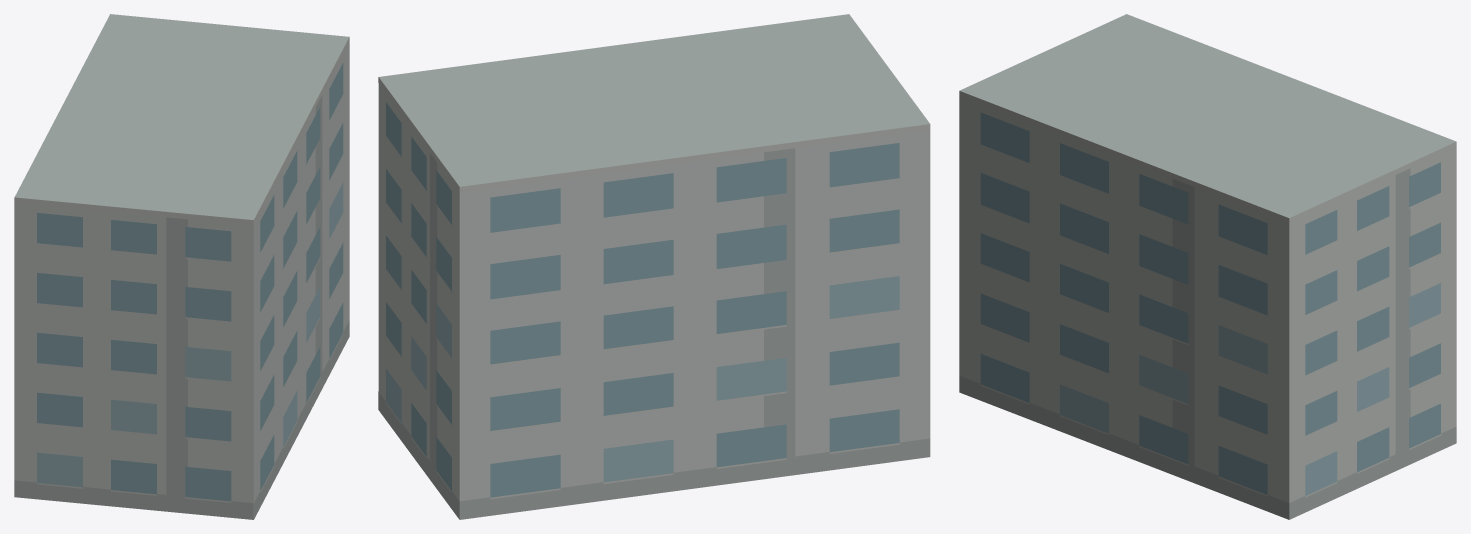
File: survey-upis-32743812.glb
The picture shows the model from 3 angles, left to right: view 1: azimuth 30°, elevation 25°; view 2: azimuth 150°, elevation 25°; view 3: azimuth 270°, elevation 25°; orthographic projection. The views are drawn at different scales.
Visible parts, largest first — view 1: survey-upis-32743812.tmp; view 2: survey-upis-32743812.tmp; view 3: survey-upis-32743812.tmp.
Part boxes in pixels (box(x1,y1,x2,y2)): survey-upis-32743812.tmp: box(14, 14, 349, 519); survey-upis-32743812.tmp: box(378, 14, 930, 519); survey-upis-32743812.tmp: box(959, 14, 1456, 519).
Bounding box in the file's own units: 19.46 × 13.4 × 20.03.
